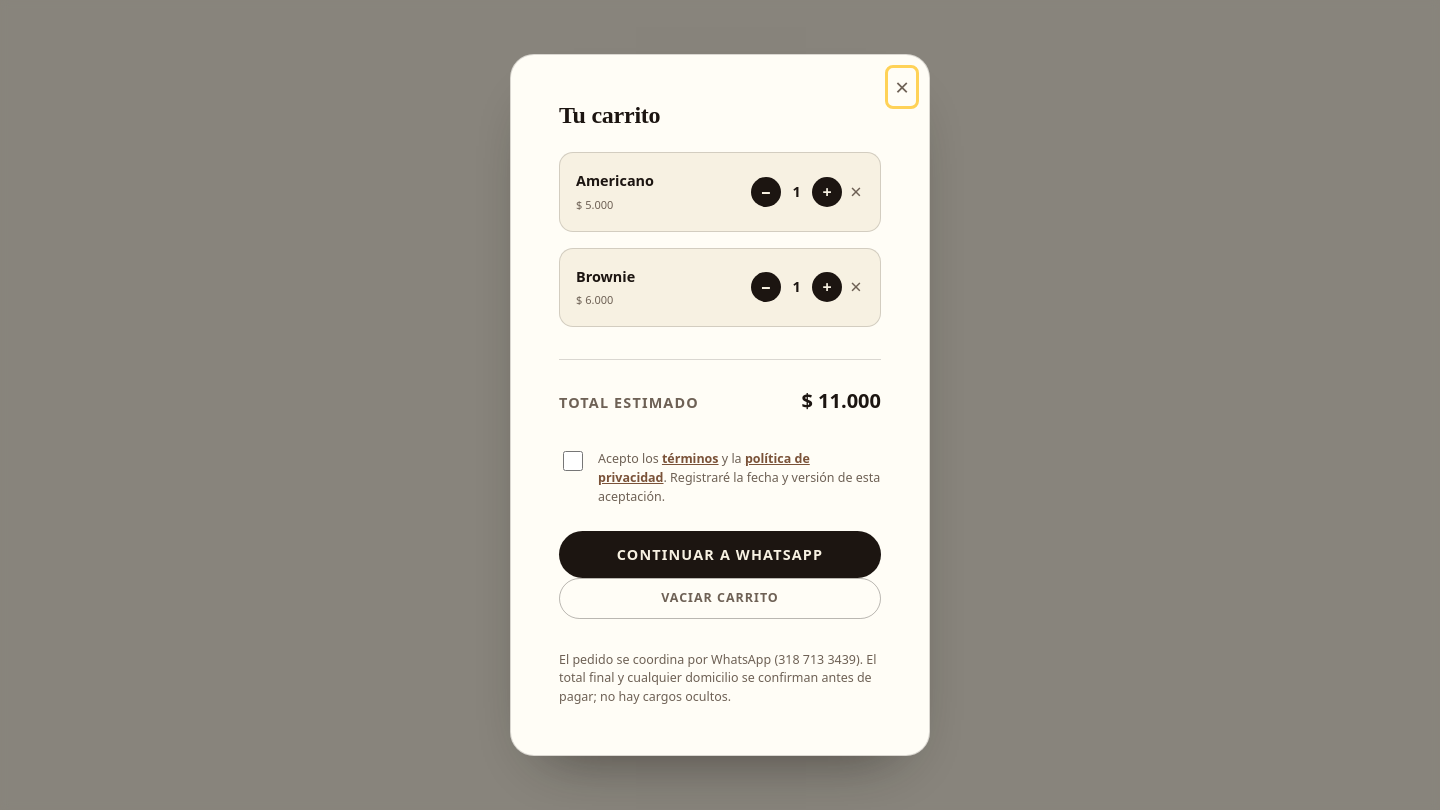
Test: CartDrawer › quita un producto del carrito
The width and height of the screenshot is (1440, 810).
Click the button named "Quitar Americano" at (856, 192), box [848, 180, 864, 204]
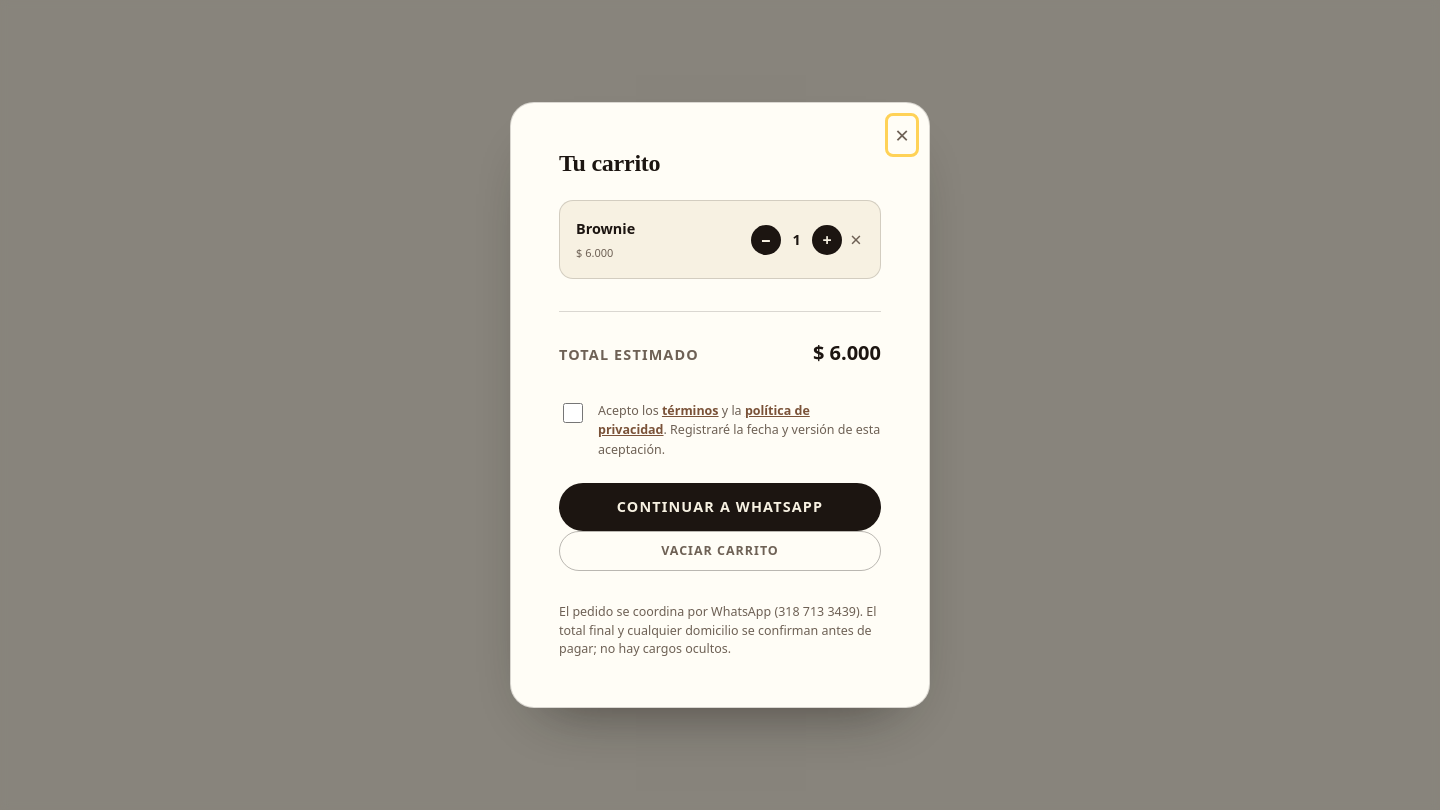
Expected: the text "Brownie" is shown, [576, 217, 635, 241]
Now the text "Americano" is gone
